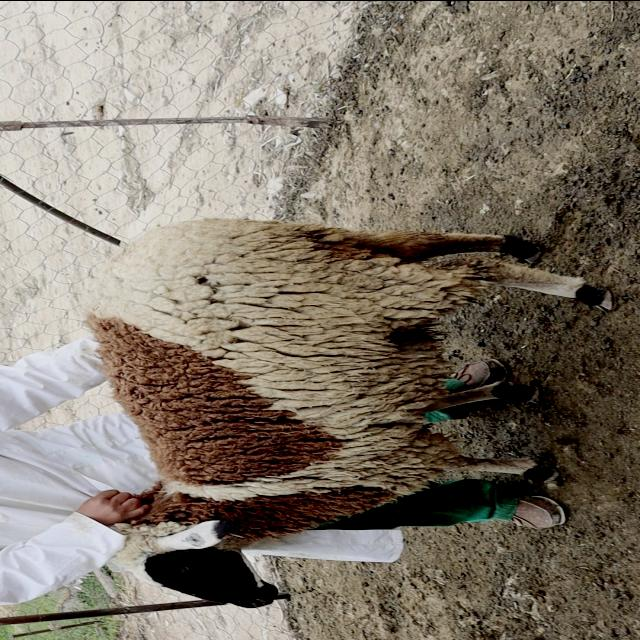Score_5: (85, 218, 612, 607)
